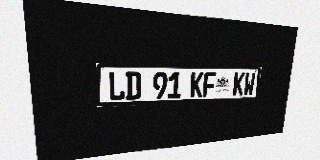1: (167, 72, 182, 99)
9: (153, 72, 168, 99)
D: (125, 72, 141, 100)
F: (203, 72, 216, 97)
K: (190, 72, 204, 98), (232, 73, 245, 96)
L: (108, 72, 125, 101)
W: (243, 73, 256, 95)
